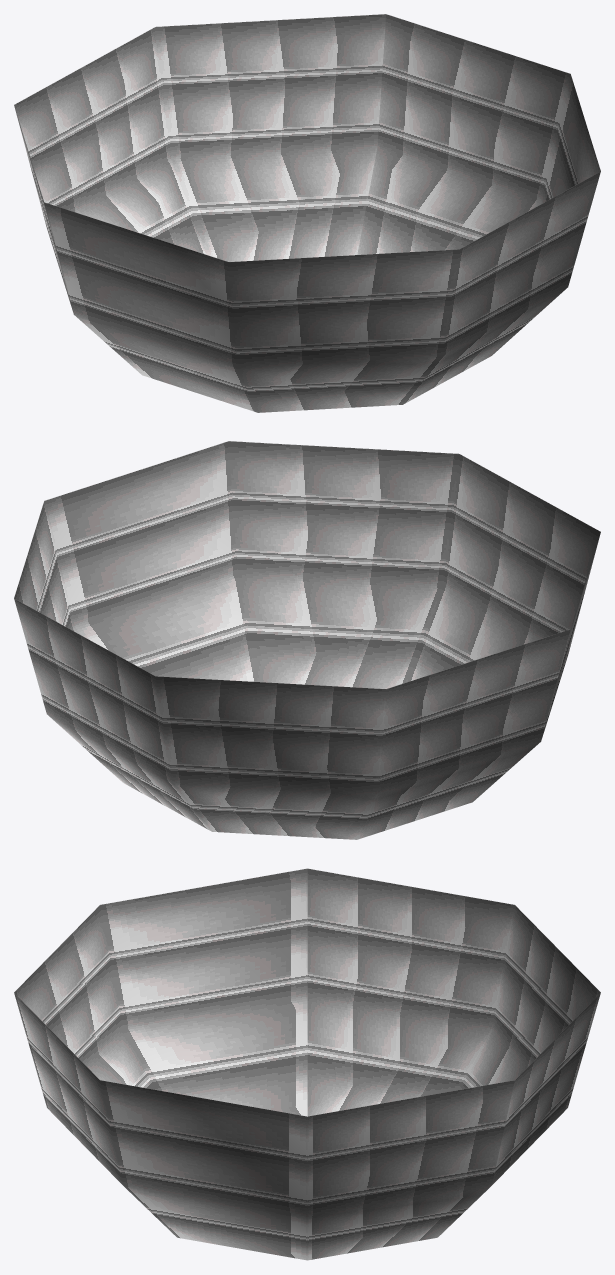
Rendered from 1118item589.gltf.
The picture shows the model from 3 angles, top to bottom: view 1: azimuth 30°, elevation 25°; view 2: azimuth 150°, elevation 25°; view 3: azimuth 270°, elevation 25°; orthographic projection. The views are drawn at different scales.
Parts seen in each view (by area): view 1: 1118item589; view 2: 1118item589; view 3: 1118item589.
Boxes of the visible parts, x1,y1,x2,y2 form: 1118item589: (14,14,600,412); 1118item589: (14,441,600,839); 1118item589: (14,868,600,1260).
Bounding box in the file's own units: 0.6245 × 0.2632 × 0.6245.
Materials: 1 (1 with a texture image).
